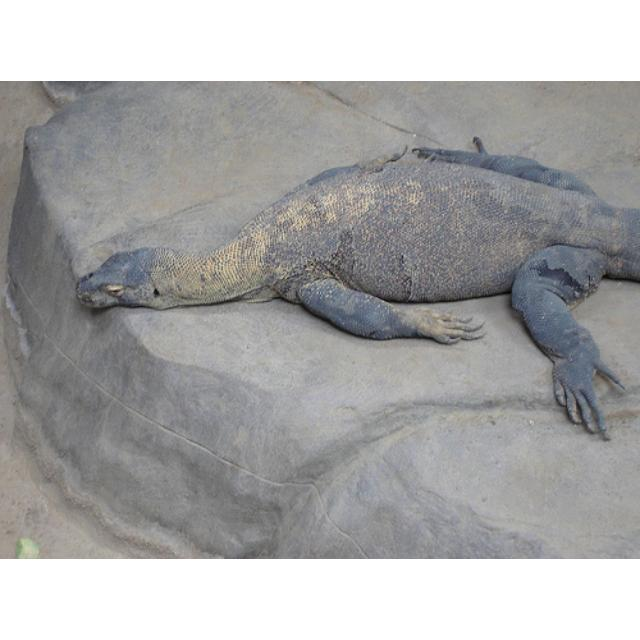KomodoDragon: (73, 140, 638, 438)
